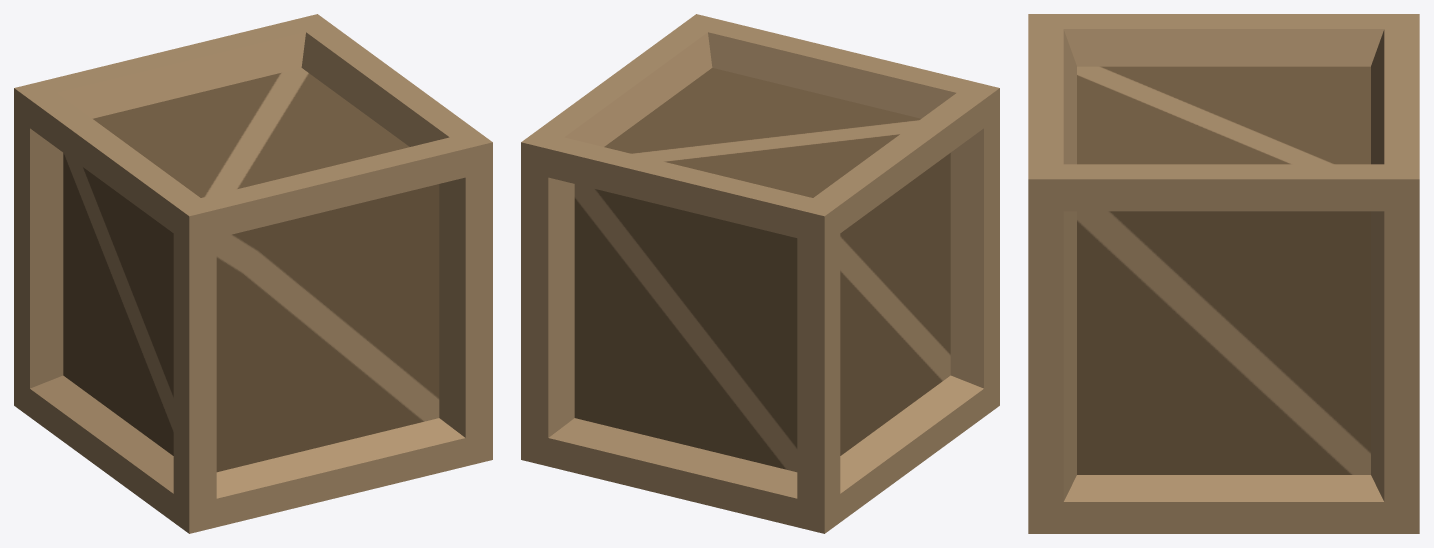
Rendered from blockCrate.obj.
3 renders of one model, left to right at view 1: azimuth 30°, elevation 25°; view 2: azimuth 150°, elevation 25°; view 3: azimuth 270°, elevation 25°, orthographic. The views are drawn at different scales.
Visible parts, largest first — view 1: blockCrate; view 2: blockCrate; view 3: blockCrate.
Boxes of the visible parts, box(x1,y1,x2,y2) form: blockCrate: box(14, 14, 492, 533); blockCrate: box(521, 14, 999, 533); blockCrate: box(1028, 14, 1419, 533).
Bounding box in the file's own units: 1 × 1 × 1.
